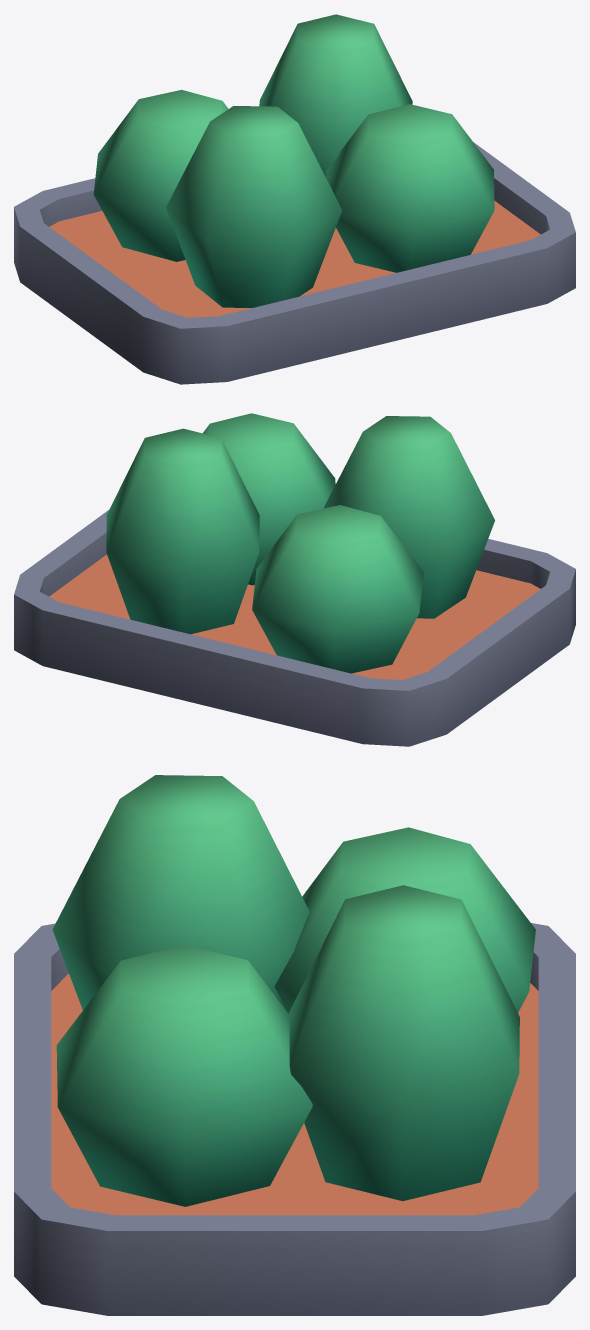
The model's file is planter.glb.
The picture shows the model from 3 angles, top to bottom: view 1: azimuth 30°, elevation 25°; view 2: azimuth 150°, elevation 25°; view 3: azimuth 270°, elevation 25°; orthographic projection. The views are drawn at different scales.
Parts seen in each view (by area): view 1: planter; view 2: planter; view 3: planter.
Boxes of the visible parts, x1,y1,x2,y2 form: planter: (14,14,575,384); planter: (14,413,575,746); planter: (14,775,575,1315).
Size of the model in its own units: 3.2 by 1.42 by 2.4.
1 material, 1 textured.
